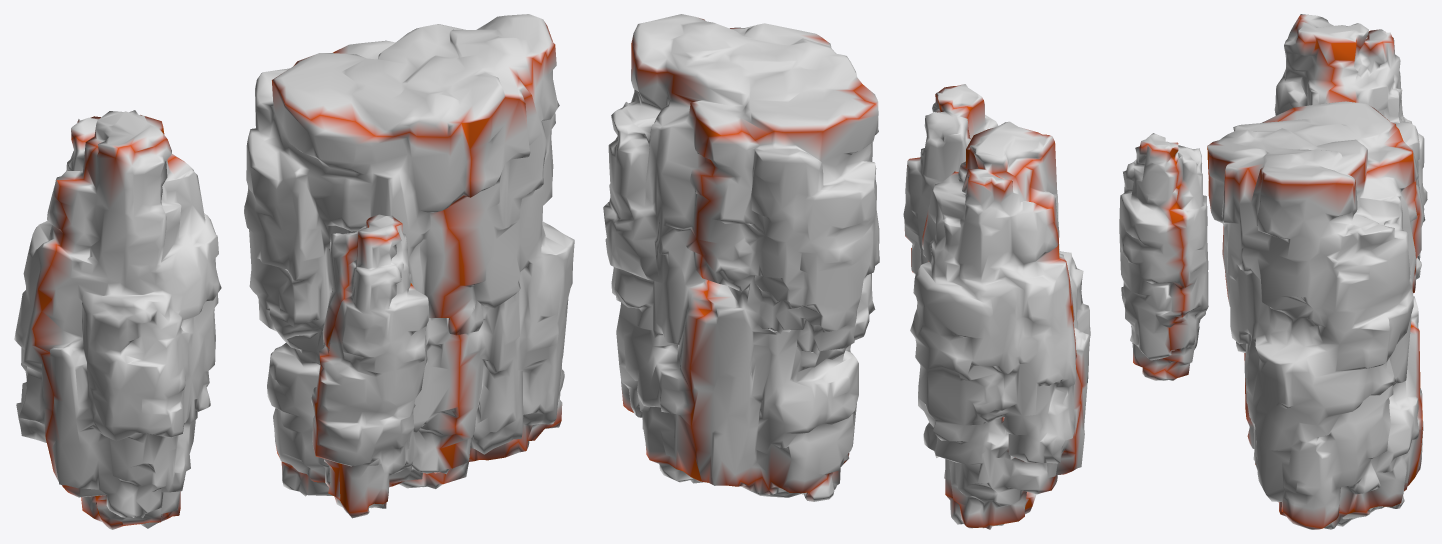
The model's file is atlas_roche_reveil03.fbx.
3 views of the same model, side by side, from view 1: azimuth 30°, elevation 25°; view 2: azimuth 150°, elevation 25°; view 3: azimuth 270°, elevation 25° (orthographic). The views are drawn at different scales.
Parts seen in each view (by area): view 1: roche_reveil09, roche_reveil08, roche_reveil07; view 2: roche_reveil09, roche_reveil08, roche_reveil07; view 3: roche_reveil09, roche_reveil07, roche_reveil08.
Boxes of the visible parts, x1,y1,x2,y2 form: roche_reveil09: [244, 14, 574, 496]; roche_reveil08: [14, 110, 221, 529]; roche_reveil07: [311, 214, 428, 518]; roche_reveil09: [603, 14, 879, 501]; roche_reveil08: [910, 121, 1090, 529]; roche_reveil07: [903, 84, 998, 274]; roche_reveil09: [1207, 101, 1425, 529]; roche_reveil07: [1119, 133, 1208, 380]; roche_reveil08: [1274, 14, 1427, 279].
Size of the model in its own units: 8.1 by 6.72 by 4.99.
